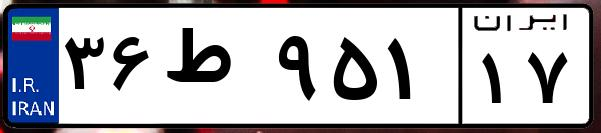1: (385, 28, 445, 110), (475, 38, 525, 113)
3: (57, 26, 110, 100)
5: (330, 28, 385, 110)
6: (110, 28, 158, 98)
7: (525, 38, 570, 115)
9: (270, 28, 330, 110)
ط: (158, 20, 270, 120)
